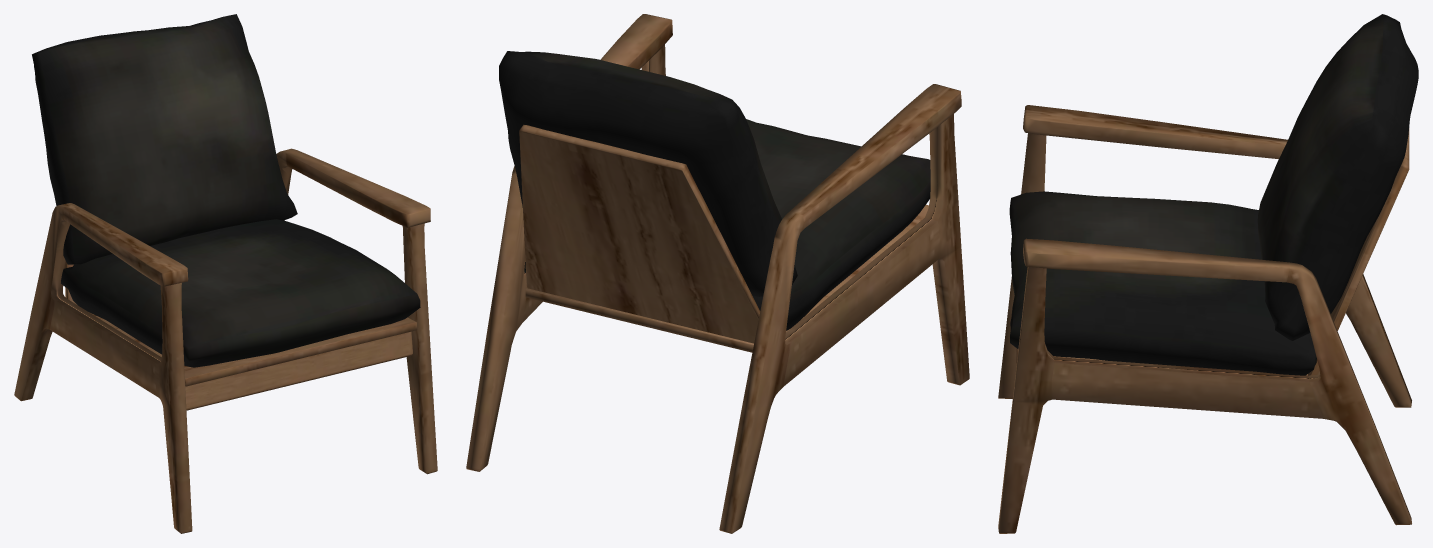
File: armchair-modern-opt.glb
The picture shows the model from 3 angles, left to right: view 1: azimuth 30°, elevation 25°; view 2: azimuth 150°, elevation 25°; view 3: azimuth 270°, elevation 25°; orthographic projection. The views are drawn at different scales.
Parts seen in each view (by area): view 1: modern_arm_chair_01; view 2: modern_arm_chair_01; view 3: modern_arm_chair_01.
Part boxes in pixels (x1=…): modern_arm_chair_01: x1=14, y1=14, x2=437, y2=533; modern_arm_chair_01: x1=466, y1=14, x2=969, y2=533; modern_arm_chair_01: x1=998, y1=14, x2=1418, y2=533.
Bounding box in the file's own units: 0.8193 × 1.02 × 0.9863.
Materials: 2 (2 with a texture image).
